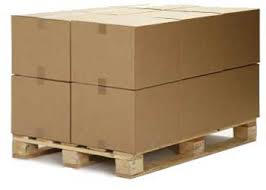box: (134, 62, 260, 155), (134, 6, 260, 91), (70, 83, 134, 153), (71, 21, 134, 90), (10, 13, 71, 83), (11, 75, 71, 144)
pallet: (9, 114, 260, 180)
